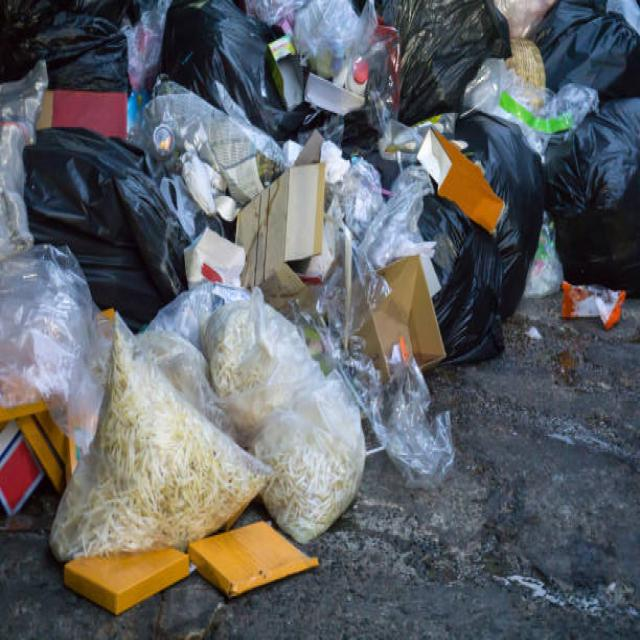garbage: (4, 0, 640, 614)
